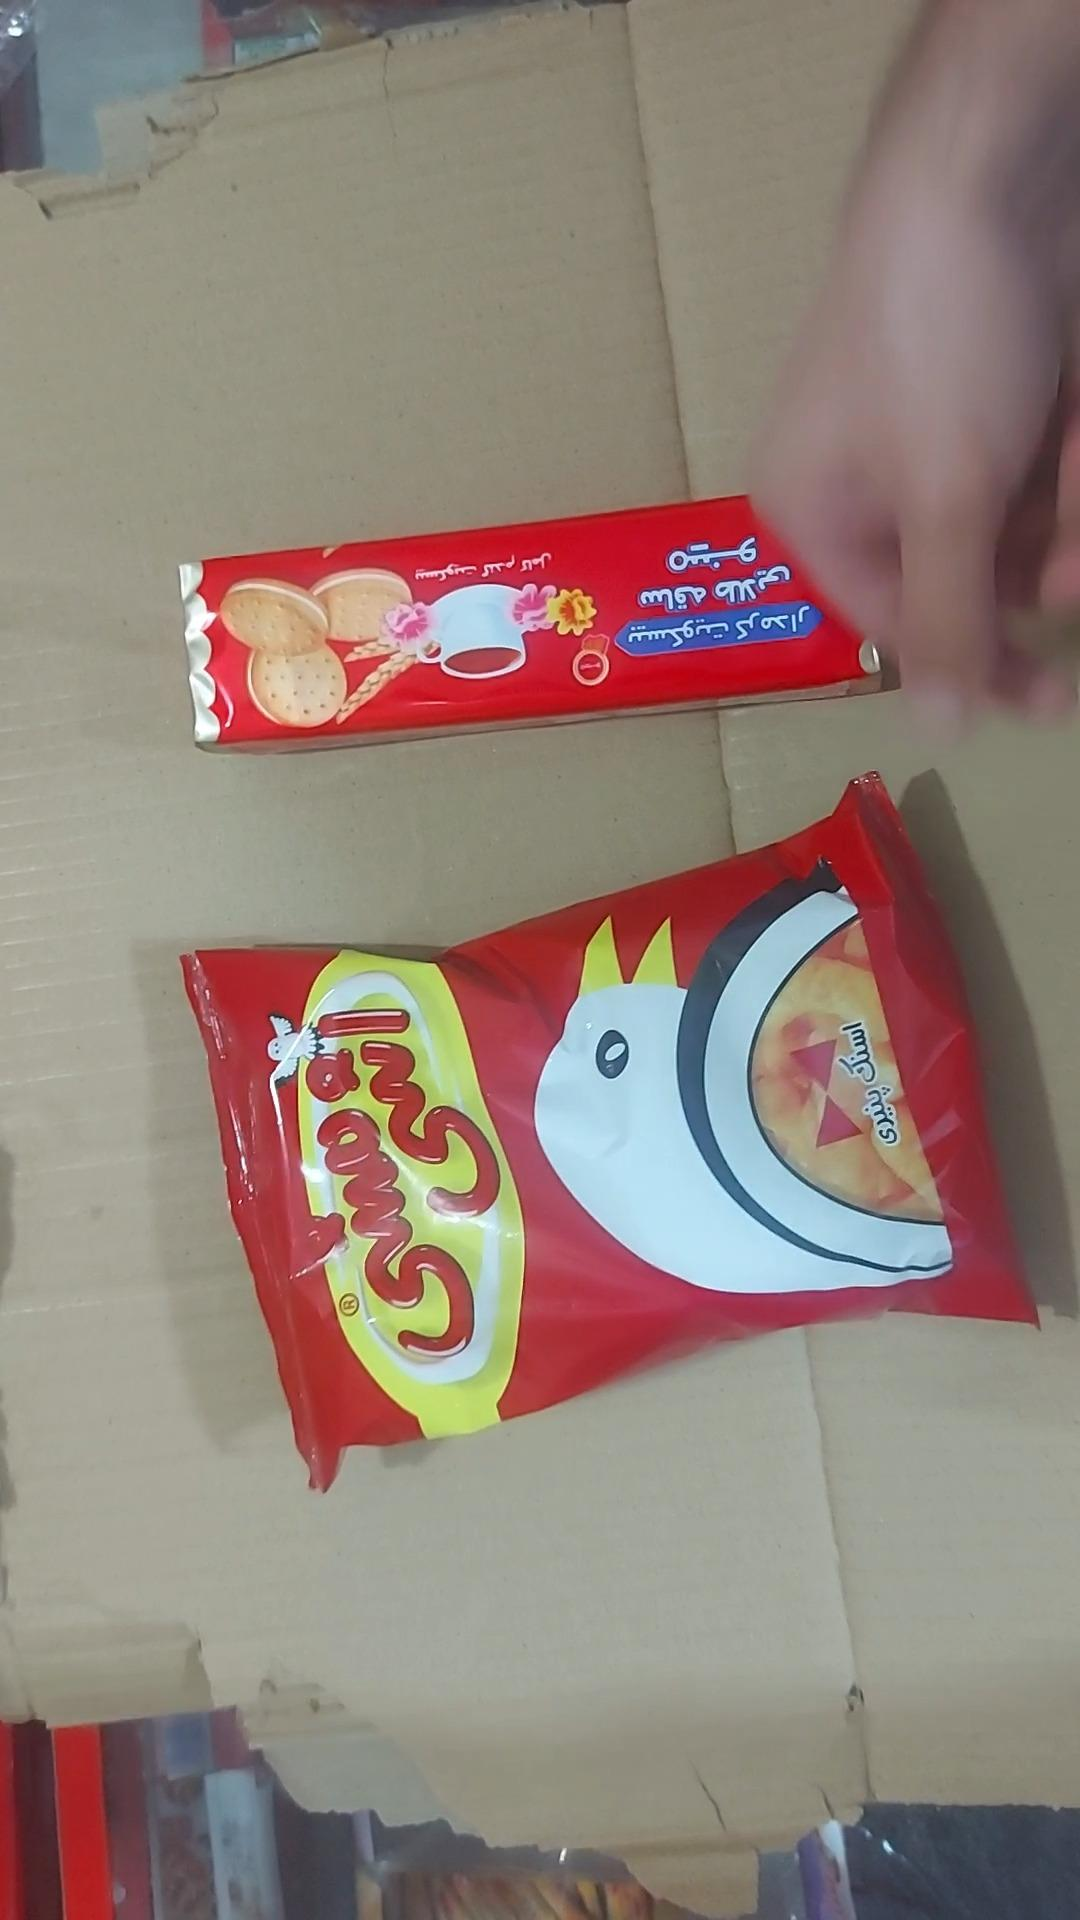Ashi Mashi snacks: (185, 775, 1035, 1489)
Minoo cream biscuit: (179, 497, 884, 749)
